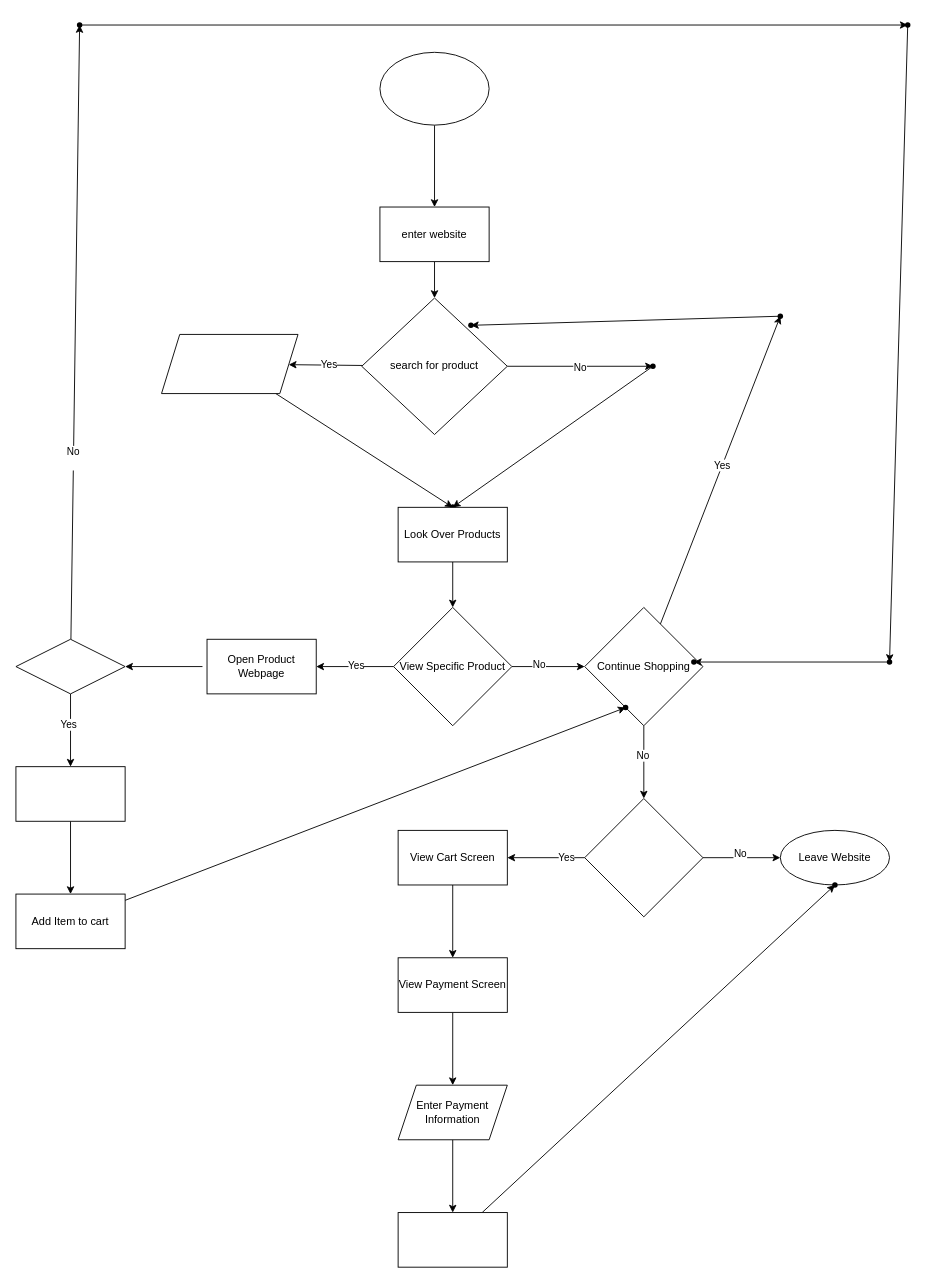
This 933x1283 diagram has some shape labels left out. Here are the shapes that lost their labels. From the top down, the centre of each, then its label:
(434,88): Start
(229,364): Provide Search Input
(70,666): Added to Cart
(70,793): Added to Cart Confirmation
(643,857): Checkout
(452,1239): Order Confirmation Screen AND Recieve an Email
